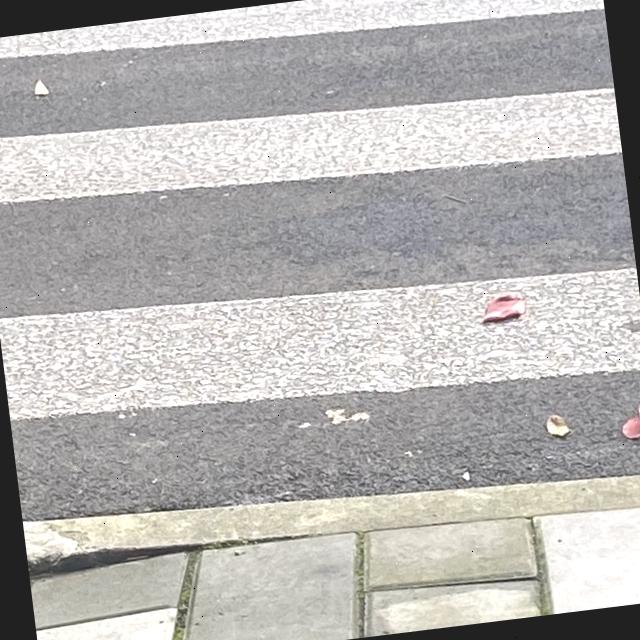curb: (22, 475, 640, 580)
